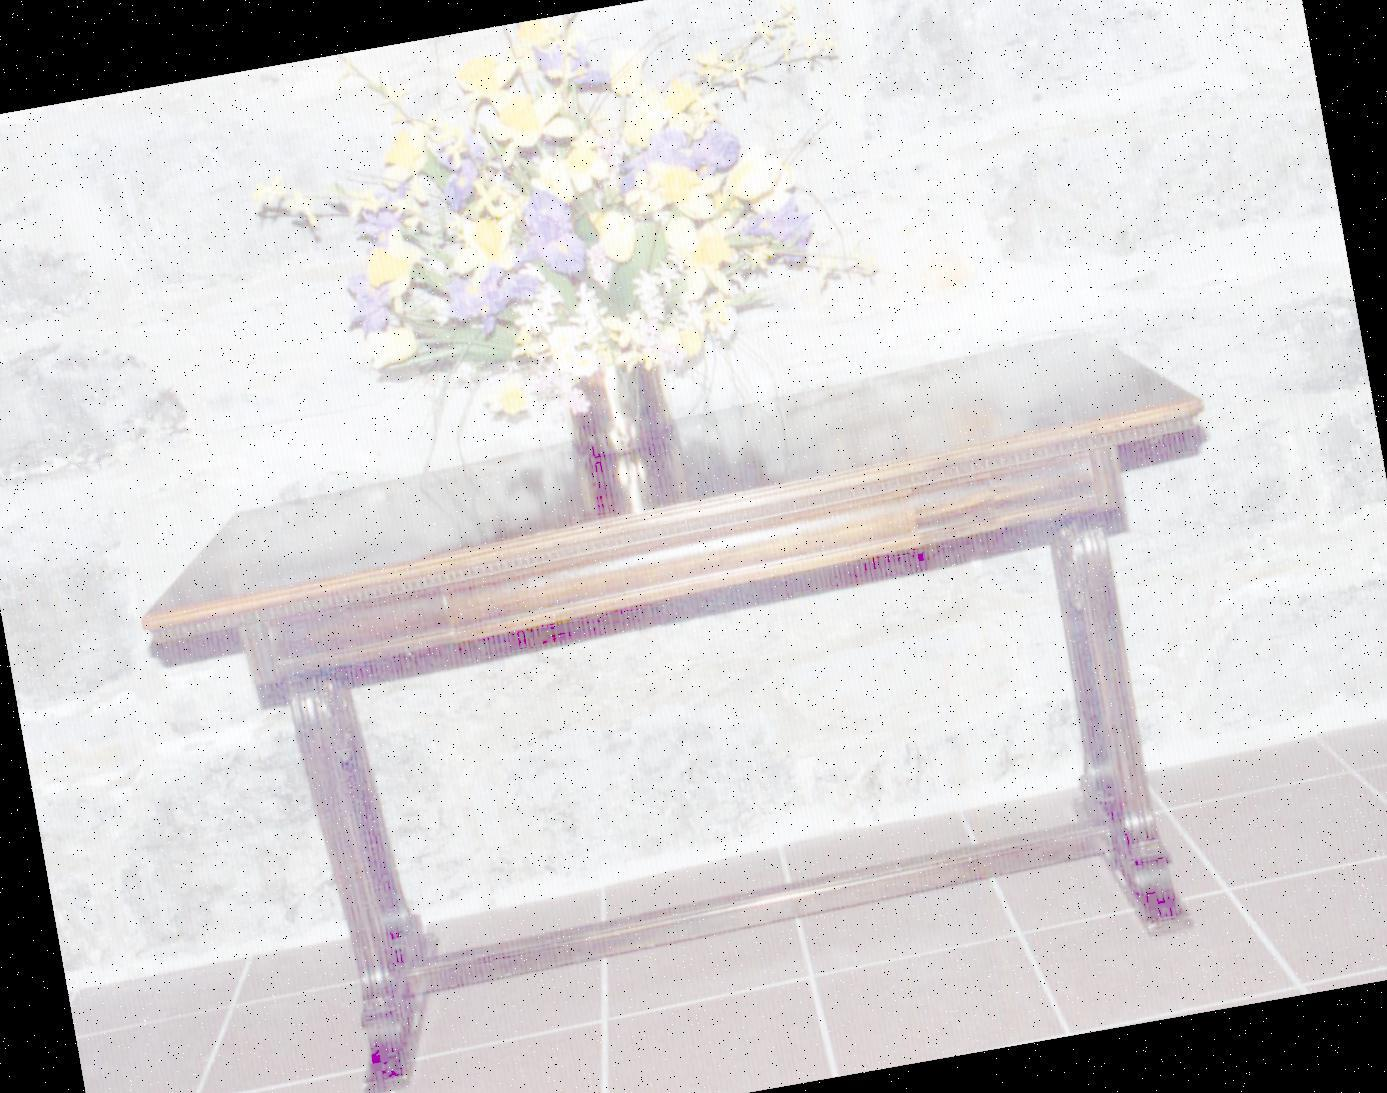Mesa: (120, 310, 1301, 1092)
